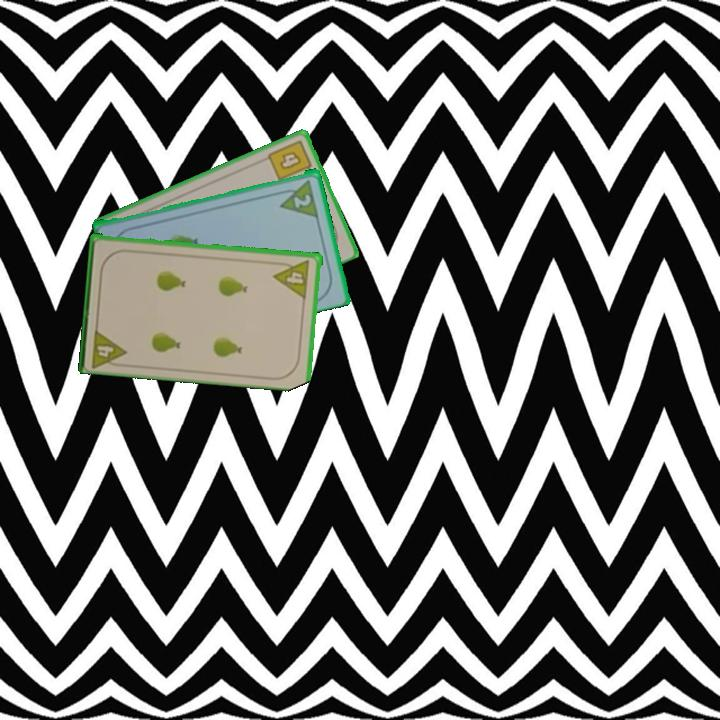2p: (290, 190, 314, 210)
4b: (264, 136, 316, 183)
4p: (88, 324, 130, 370), (271, 256, 313, 300)
